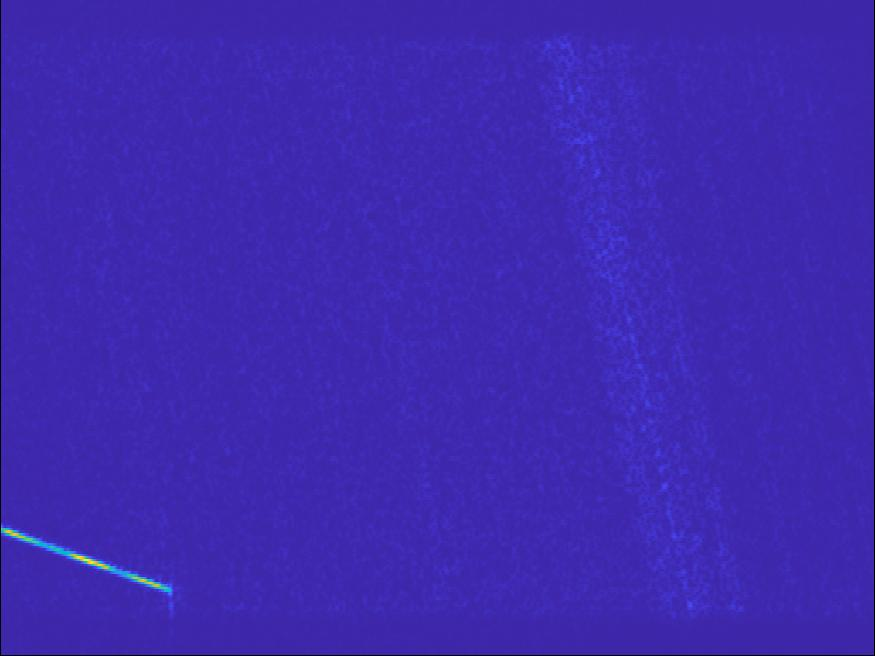Interference: (1, 510, 195, 601)
